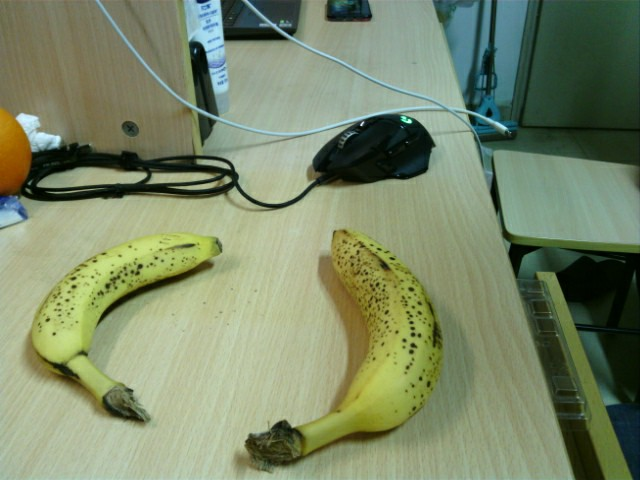normal_banana: (244, 229, 443, 470), (30, 233, 221, 424)
